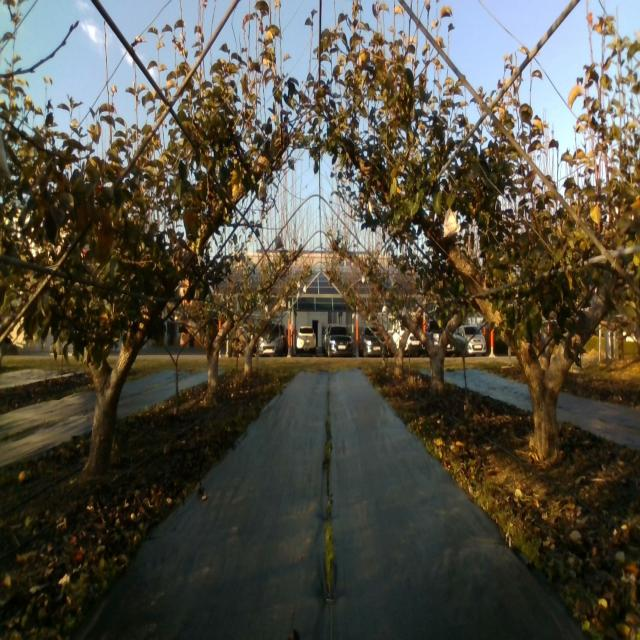pearbags: (443, 208, 461, 239)
